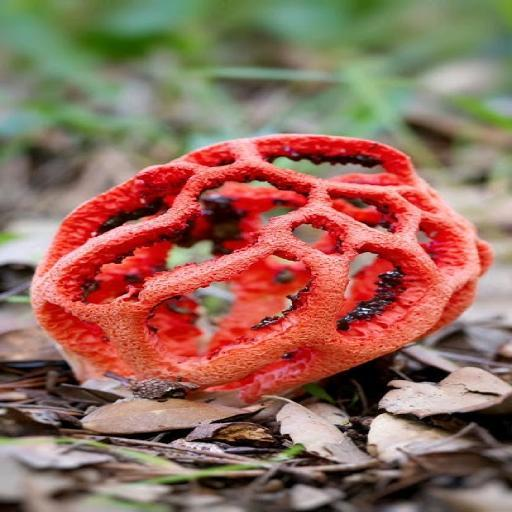mushroom: (36, 133, 492, 403)
